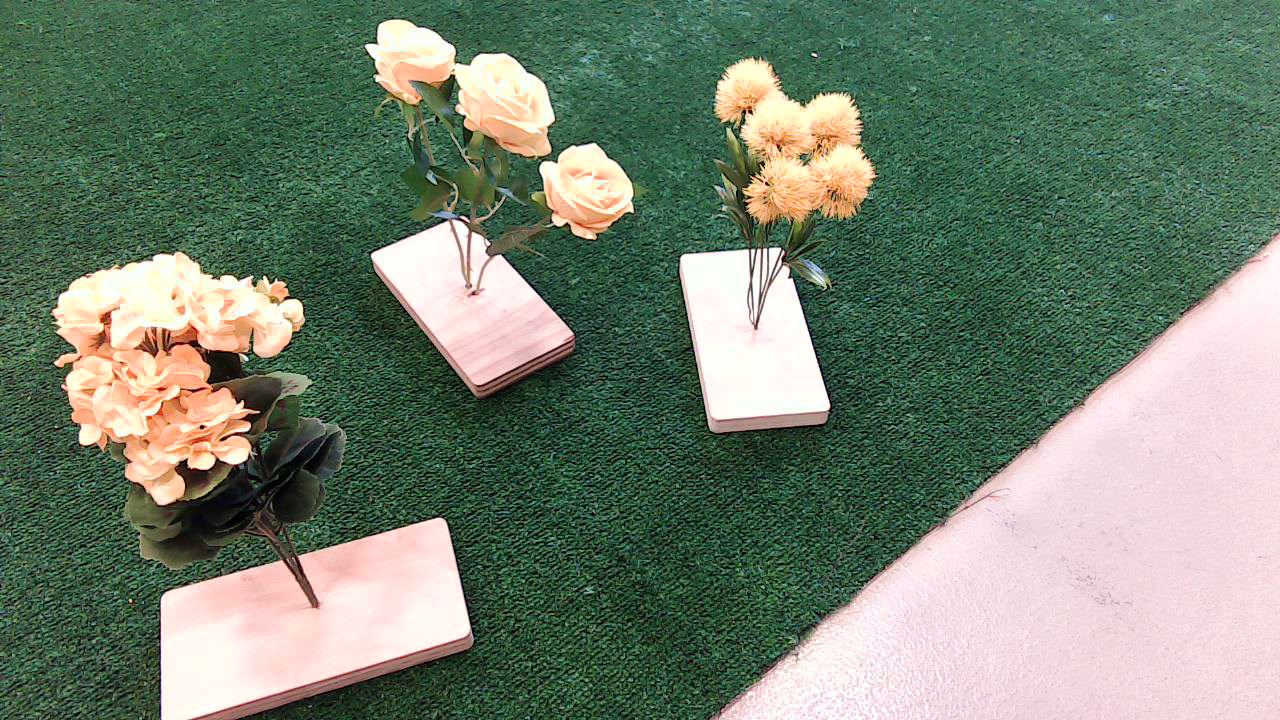dandelion: (662, 58, 900, 284)
geranium: (22, 252, 337, 573)
rose: (352, 22, 645, 292)
